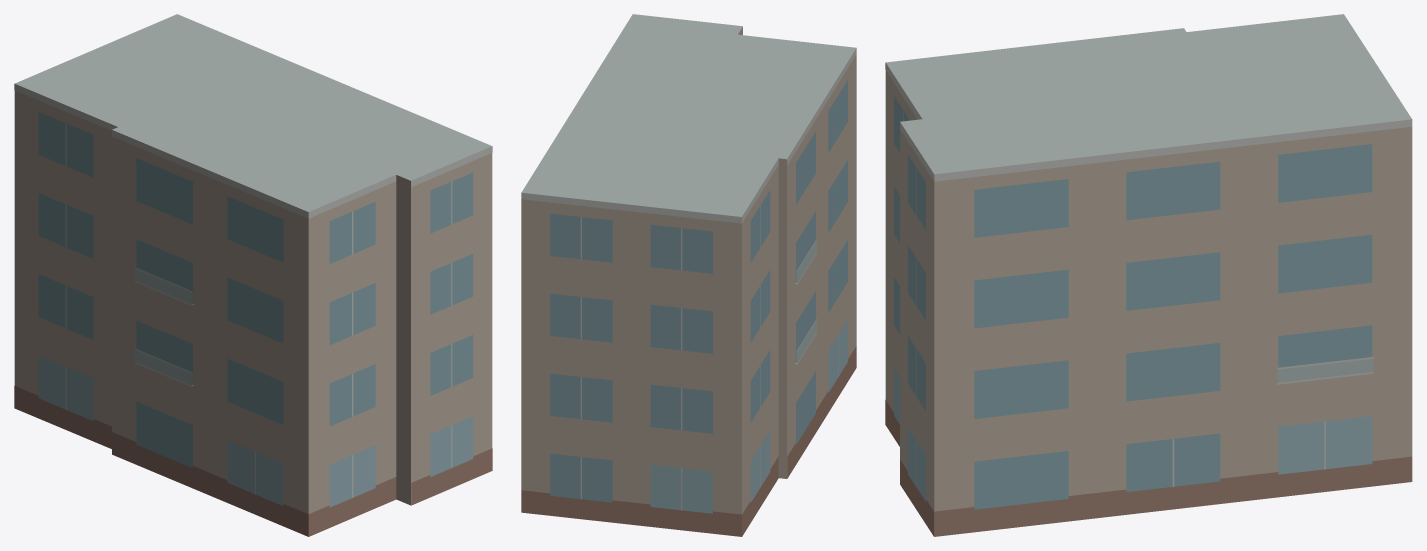
File: survey-upis-32613140.glb
3 renders of one model, left to right at view 1: azimuth 30°, elevation 25°; view 2: azimuth 150°, elevation 25°; view 3: azimuth 270°, elevation 25°, orthographic. The views are drawn at different scales.
Parts seen in each view (by area): view 1: survey-upis-32613140.tmp; view 2: survey-upis-32613140.tmp; view 3: survey-upis-32613140.tmp.
Part boxes in pixels (x1=…): survey-upis-32613140.tmp: x1=14, y1=14, x2=492, y2=536; survey-upis-32613140.tmp: x1=521, y1=14, x2=856, y2=536; survey-upis-32613140.tmp: x1=885, y1=14, x2=1412, y2=536.
Bounding box in the file's own units: 11.45 × 12.06 × 15.89.
